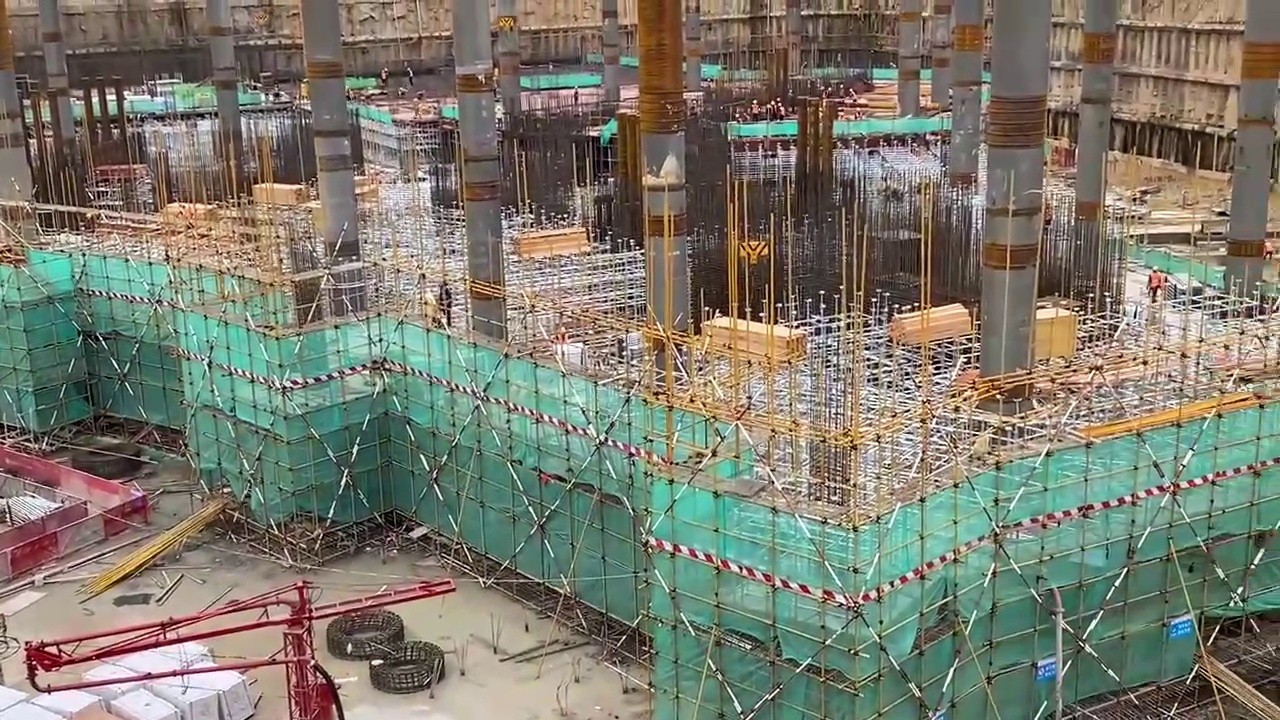fence: (59, 465, 152, 537), (3, 525, 72, 567), (5, 449, 65, 488)
hook: (739, 240, 768, 262)
scaffold: (3, 493, 59, 522)
wood: (703, 317, 805, 357), (891, 308, 976, 337), (511, 228, 592, 257), (251, 179, 308, 204), (168, 203, 220, 224)
